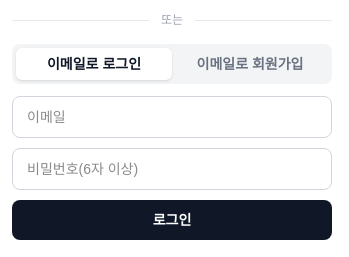
PartnerEmailAuthForm › 회원가입 탭을 누르면 버튼 라벨이 바뀐다
Click the button "이메일로 회원가입" at (250, 64), box [172,48,328,80]
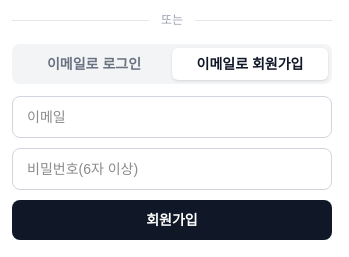
Now the button "회원가입" is shown, box [12,200,332,240]
